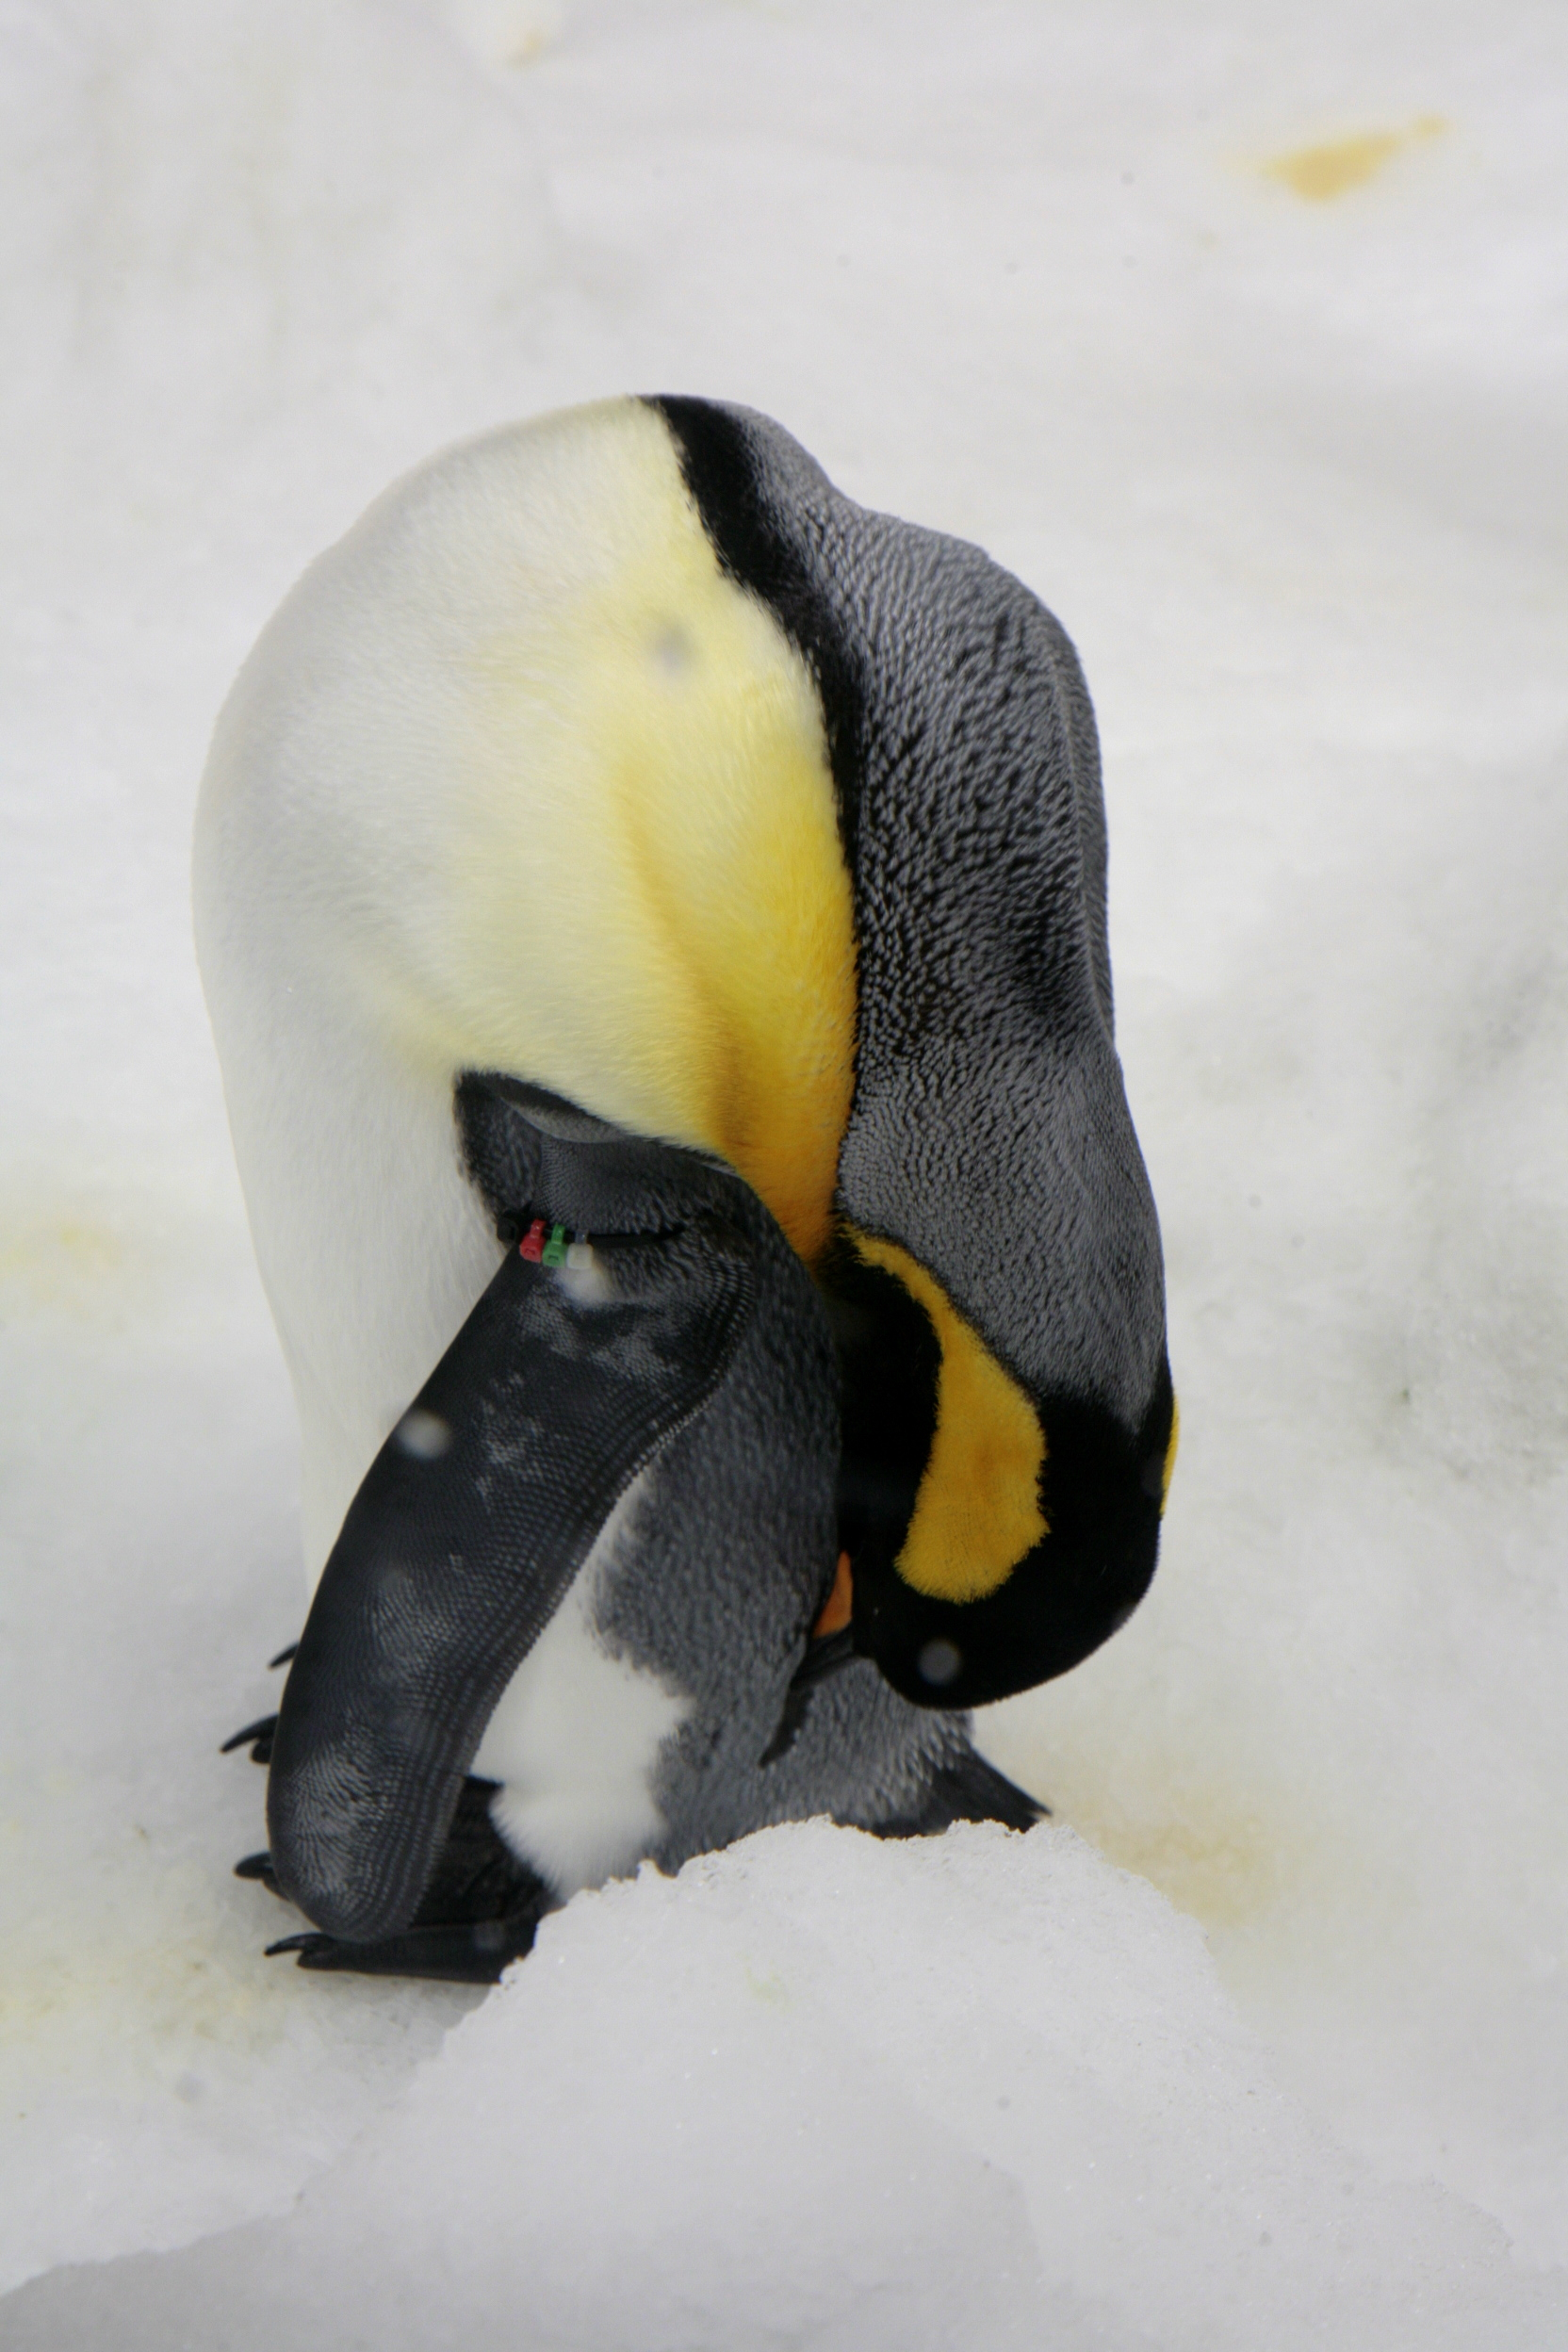penguin: (175, 378, 1202, 1939)
